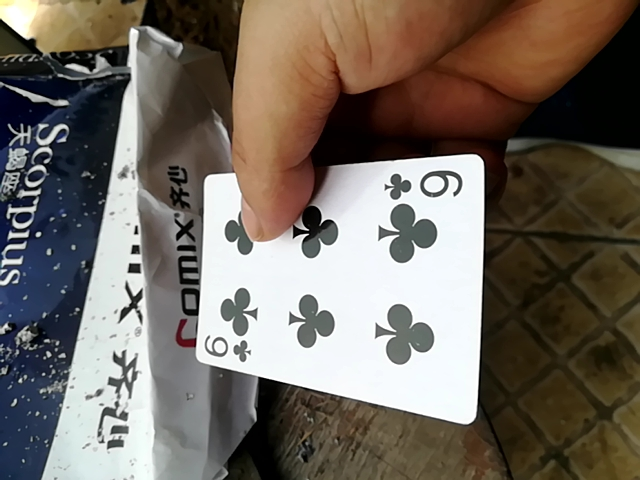mh 6: (191, 152, 485, 419)
